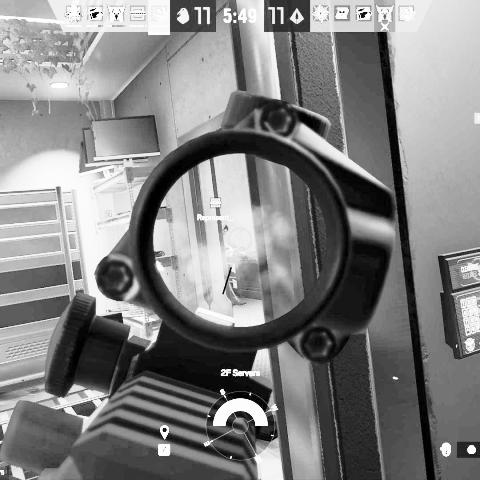Character: (220, 222, 246, 307)
Friend_label: (196, 197, 236, 221)
Head: (222, 222, 229, 236)
